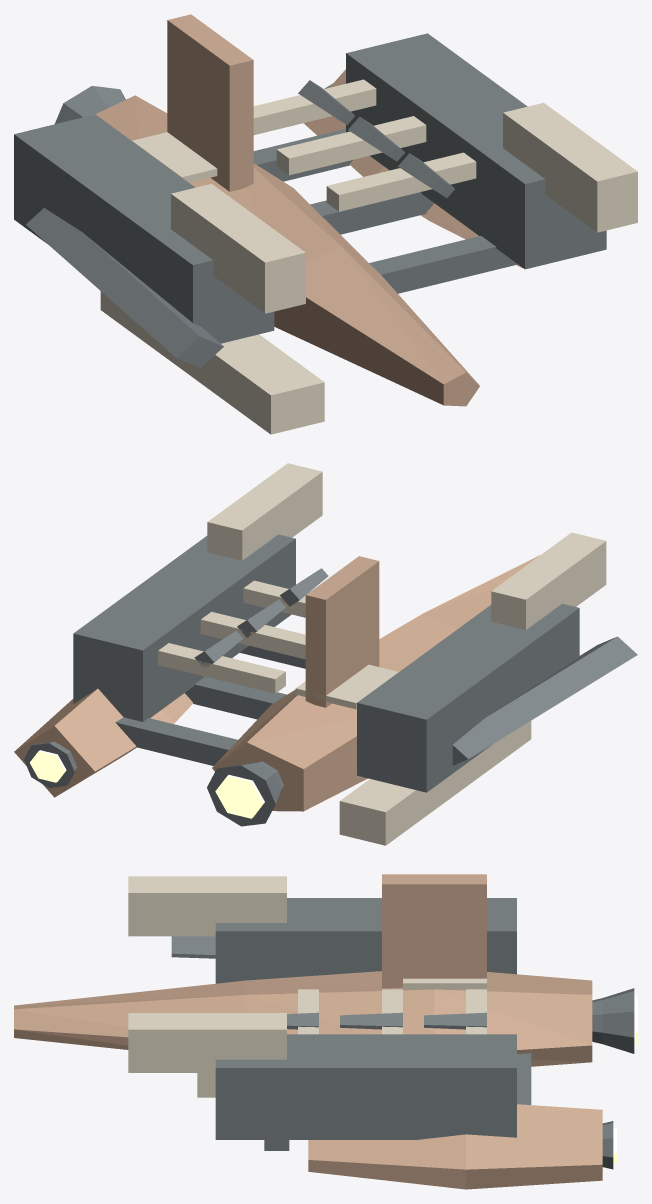
3 views of the same model, one above another, from view 1: azimuth 30°, elevation 25°; view 2: azimuth 150°, elevation 25°; view 3: azimuth 270°, elevation 25° (orthographic). The views are drawn at different scales.
Size of the model in its own units: 11.93 by 6.38 by 15.73.
